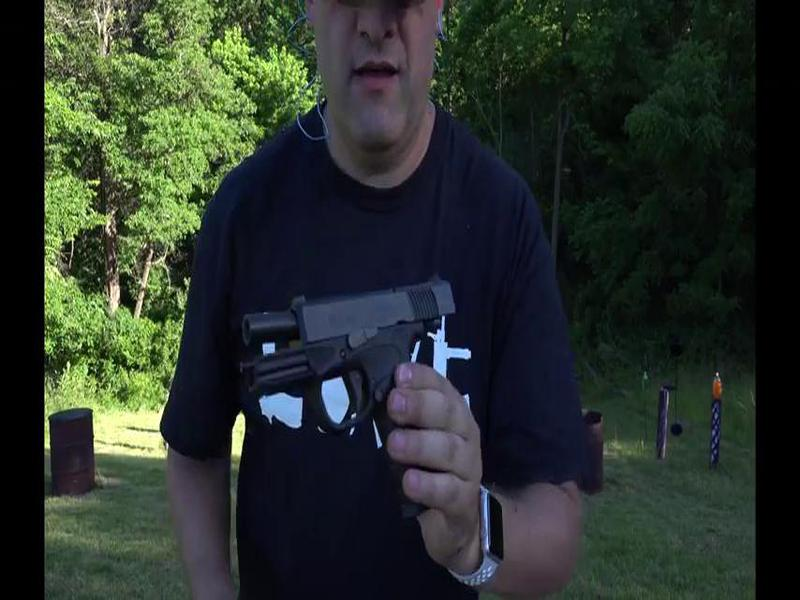Pistola: (231, 266, 470, 493)
